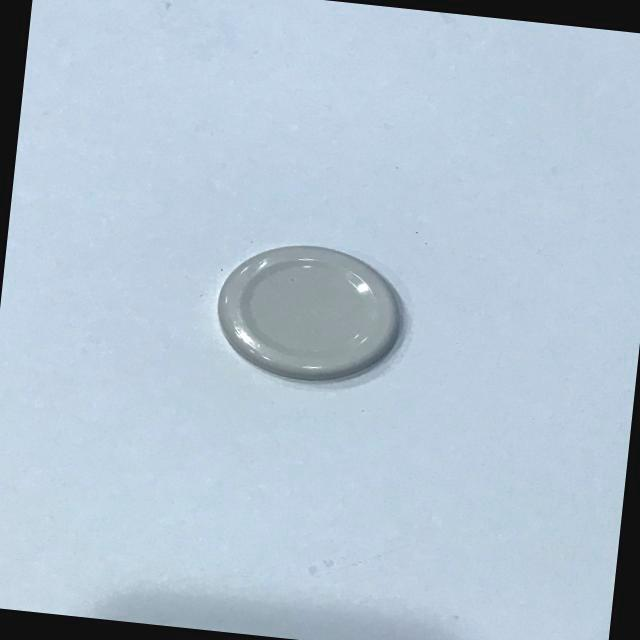metal: (196, 228, 422, 409)
